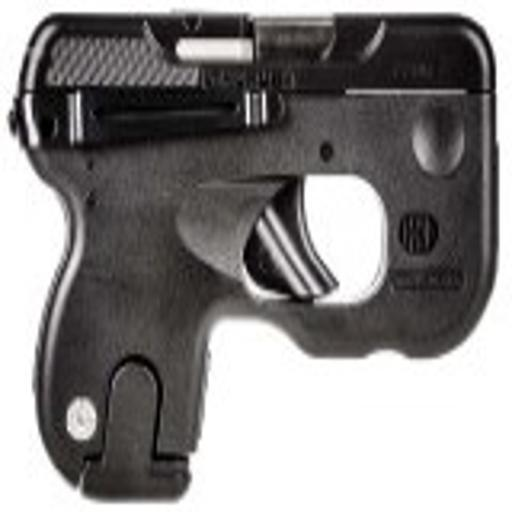Handgun: (5, 11, 507, 511)
